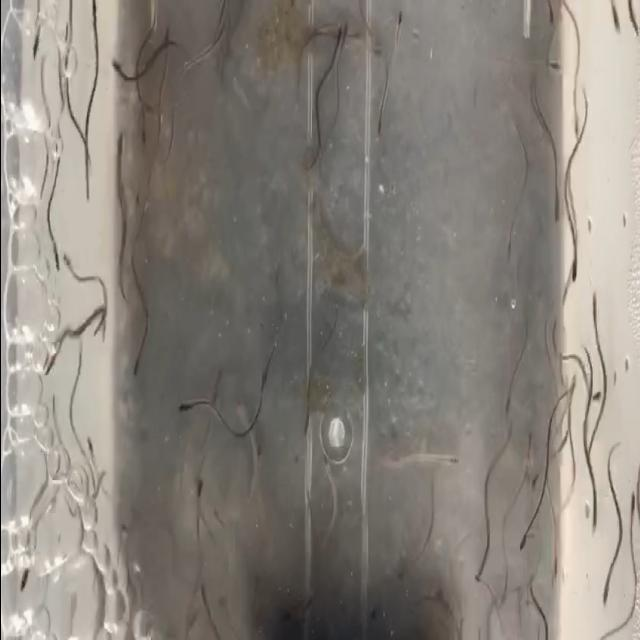active_glass_eel: (544, 174, 562, 228), (585, 280, 600, 344), (548, 534, 562, 594), (111, 130, 128, 177), (318, 446, 336, 490), (624, 486, 638, 540), (539, 48, 561, 80), (190, 472, 206, 516), (586, 501, 602, 545), (18, 543, 32, 593), (28, 19, 42, 68), (441, 441, 461, 475), (570, 103, 584, 151), (472, 551, 490, 588), (516, 518, 534, 554), (518, 430, 534, 470), (566, 244, 580, 289), (40, 348, 58, 383), (84, 428, 98, 472), (608, 0, 622, 43), (566, 364, 578, 414), (180, 51, 200, 81), (160, 20, 173, 66), (626, 0, 640, 42), (598, 570, 612, 612), (585, 376, 603, 408), (500, 227, 514, 267), (130, 340, 142, 386), (175, 394, 197, 419), (392, 5, 404, 50), (332, 13, 344, 58), (524, 466, 542, 494), (539, 0, 555, 30), (372, 104, 384, 144), (136, 122, 150, 154), (86, 0, 100, 32), (50, 236, 61, 276), (502, 380, 512, 420), (338, 18, 349, 54), (108, 56, 124, 80), (300, 400, 309, 442), (61, 245, 72, 273)
